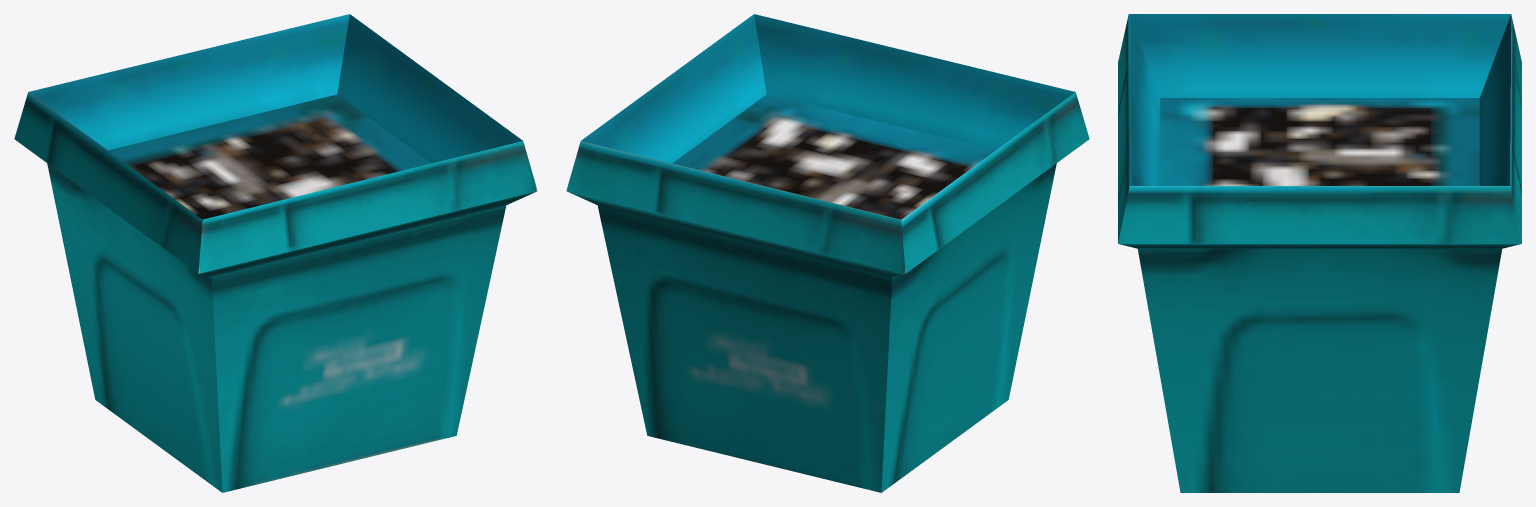
File: RecycleBin.fbx
3 views of the same model, side by side, from view 1: azimuth 30°, elevation 25°; view 2: azimuth 150°, elevation 25°; view 3: azimuth 270°, elevation 25° (orthographic). The views are drawn at different scales.
Visible parts, largest first — view 1: RecycleBin; view 2: RecycleBin; view 3: RecycleBin.
Boxes of the visible parts, <box> form: RecycleBin: <box>14,14,537,492</box>; RecycleBin: <box>566,14,1089,492</box>; RecycleBin: <box>1118,14,1521,492</box>.
Bounding box in the file's own units: 0.603 × 0.5117 × 0.5671.
